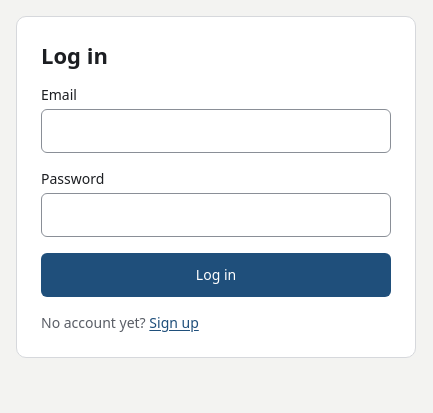
auth screens › WEB-2 — login error: wrong credentials show the message and the password keeps focus
Type "iryna@example.com" into the field labelled "Email" at [216, 131], box [41,109,391,153]
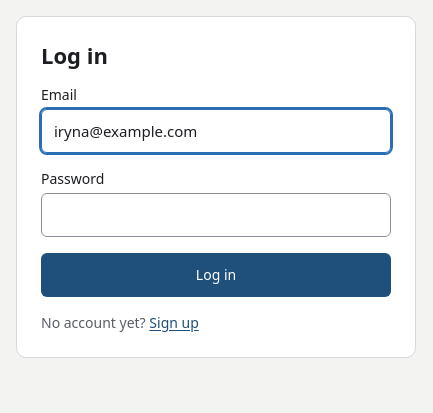
Type "wrong password" into the password field labelled "Password" at [216, 215], box [41,193,391,237]
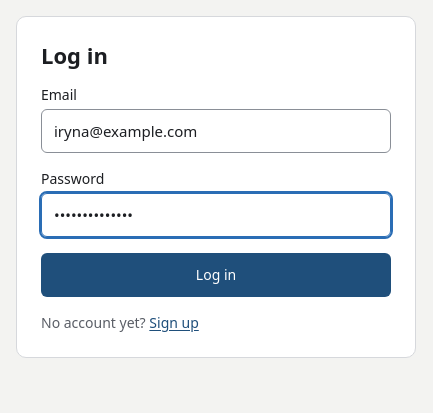
Click the button "Log in" at [216, 275], box [41,253,391,297]
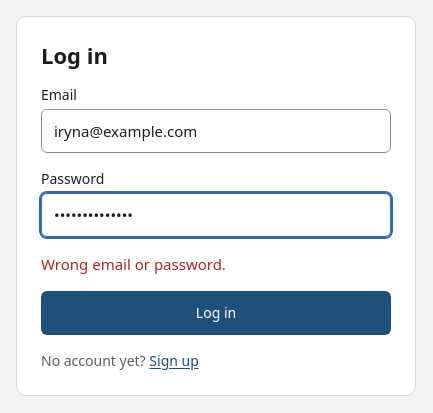
Expected: the message reads "Wrong email or password.", [41,254,226,274]
